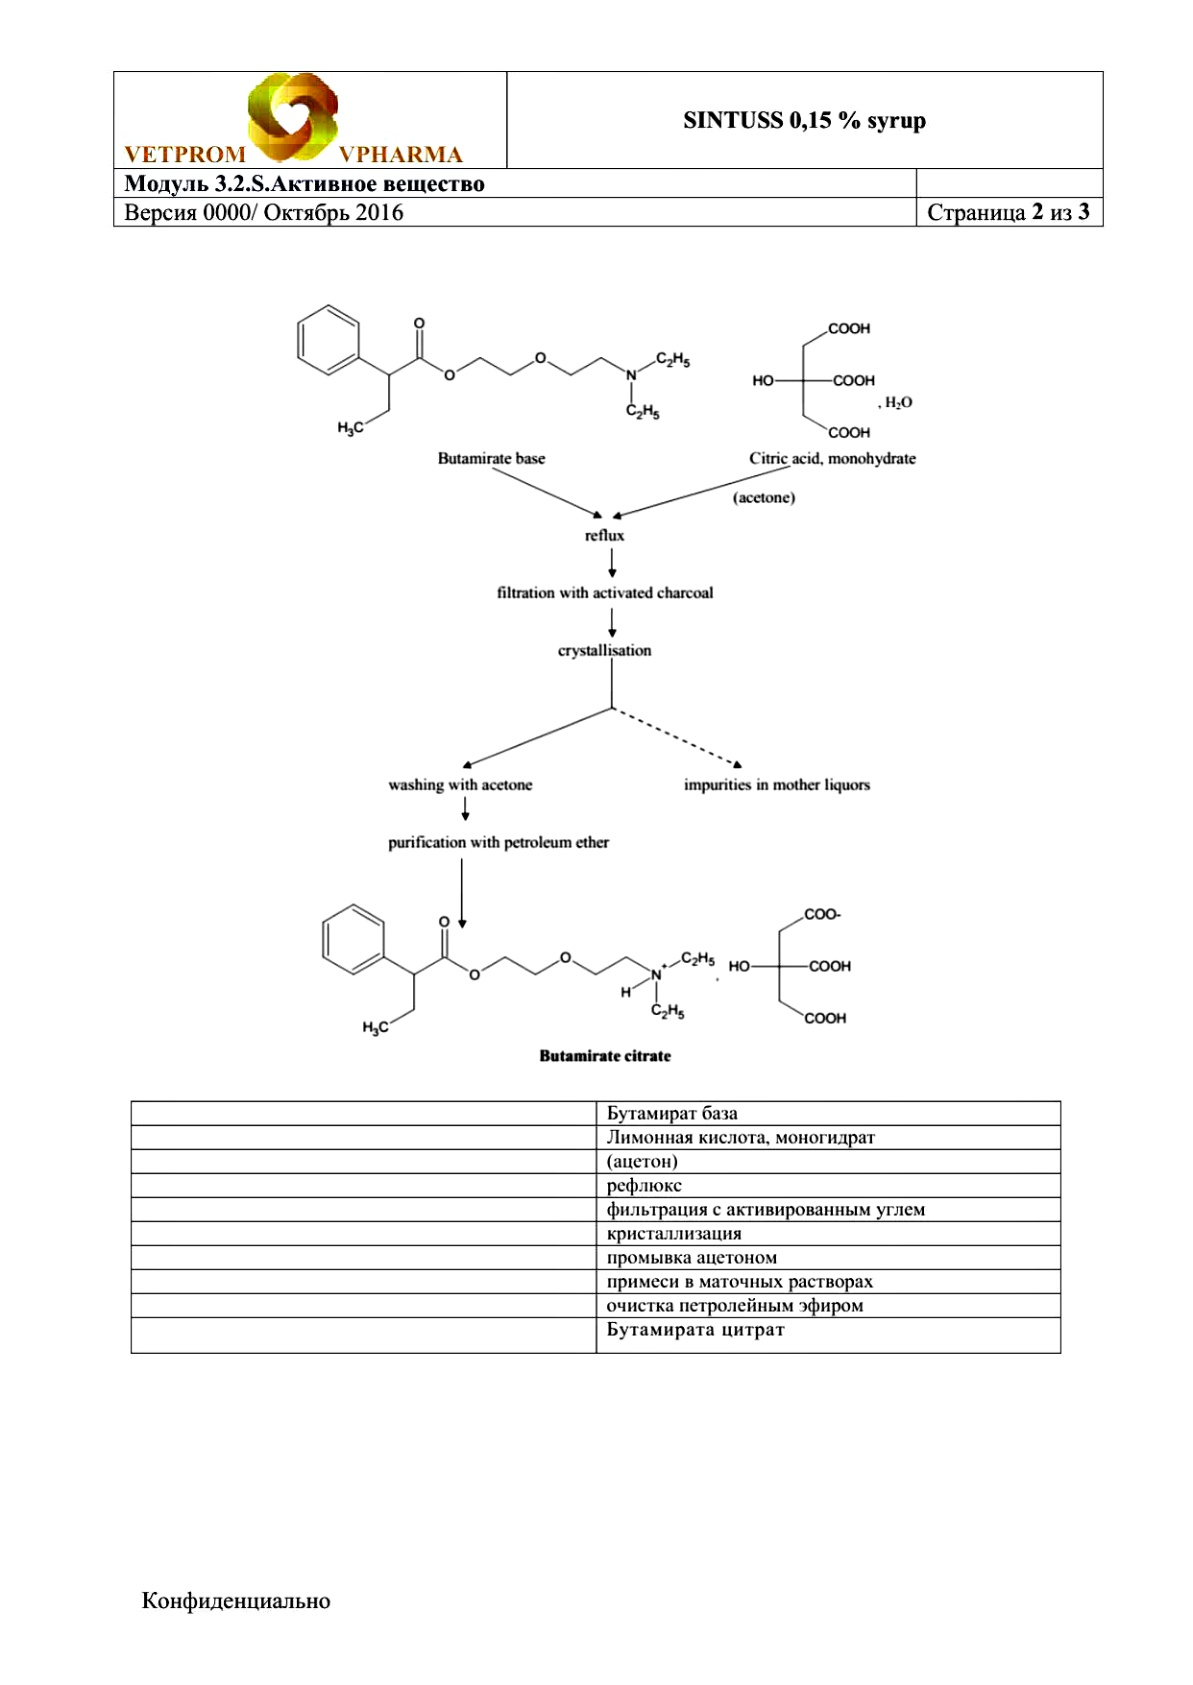full_lined: (129, 1099, 1063, 1354)
merged_cells: (111, 68, 1104, 227)
